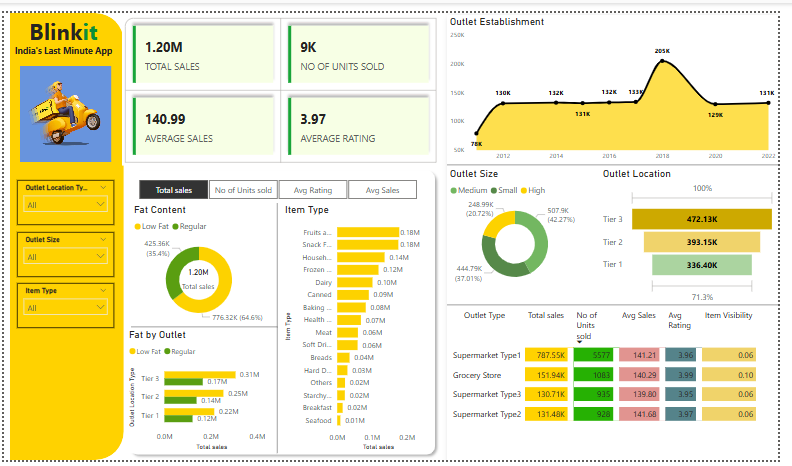

The dashboard page shown, as its layout file describes it:
{"tool":"powerbi","page":{"name":"Page 1","canvas":[1291,745],"ordinal":0},"visuals":[{"type":"shape","box":[9.5,0,189.6,745],"z":0},{"type":"textbox","box":[0,0,198.2,66.1],"z":1000},{"type":"textbox","box":[0,46.8,198.2,66.1],"z":2000},{"type":"cardVisual","fields":{"Data":["BlinkIT Grocery Data.Total sales","BlinkIT Grocery Data.No of Units sold","BlinkIT Grocery Data.Avg Sales","BlinkIT Grocery Data.Avg Rating"]},"box":[197.1,2.8,530.3,251.3],"z":3000},{"type":"shape","box":[199.7,253.3,527.5,491.7],"z":4000},{"type":"slicer","fields":{"Values":["Metrics.Metrics"]},"box":[199.7,271.2,512,45],"z":5000},{"type":"shape","box":[737.5,3,552.8,742],"z":6000},{"type":"donutChart","title":"Fat Content","fields":{"Y":["BlinkIT Grocery Data.Total sales"],"Category":["BlinkIT Grocery Data.Item Fat Content"]},"box":[211.6,315.9,226.5,208.6],"z":7000},{"type":"card","fields":{"Values":["BlinkIT Grocery Data.Total sales"]},"box":[262.2,382.9,123.7,116.2],"z":8000},{"type":"clusteredBarChart","title":"Fat by Outlet ","fields":{"Y":["BlinkIT Grocery Data.Total sales"],"Series":["BlinkIT Grocery Data.Item Fat Content"],"Category":["BlinkIT Grocery Data.Outlet Location Type"]},"box":[204.1,524.5,241.4,208.6],"z":9000},{"type":"barChart","title":"Item Type","fields":{"Y":["BlinkIT Grocery Data.Total sales"],"Category":["BlinkIT Grocery Data.Item Type"]},"box":[463.4,315.9,248.8,417.2],"z":10000},{"type":"lineChart","title":" Outlet Establishment ","fields":{"Category":["BlinkIT Grocery Data.Outlet Establishment Year"],"Y":["BlinkIT Grocery Data.Total sales"]},"box":[737.5,3,552.8,253.3],"z":11000},{"type":"shape","box":[737.5,102.8,552.8,299.5],"z":12000},{"type":"shape","box":[211.6,372.5,244.4,299.5],"z":13000},{"type":"shape","box":[333.8,315.9,244.4,417.2],"z":14000},{"type":"donutChart","title":"Outlet Size","fields":{"Y":["BlinkIT Grocery Data.Total sales"],"Category":["BlinkIT Grocery Data.Outlet Size"]},"box":[737.5,256.3,226.5,208.6],"z":15000},{"type":"funnel","title":" Outlet Location","fields":{"Y":["Sum(BlinkIT Grocery Data.Sales)"],"Category":["BlinkIT Grocery Data.Outlet Location Type"]},"box":[993.8,256.3,296.5,230.9],"z":16000},{"type":"pivotTable","fields":{"Rows":["BlinkIT Grocery Data.Outlet Type"],"Values":["BlinkIT Grocery Data.Total sales","BlinkIT Grocery Data.No of Units sold","BlinkIT Grocery Data.Avg Sales","BlinkIT Grocery Data.Avg Rating","Avg(BlinkIT Grocery Data.Item Visibility)"]},"box":[737.5,487.2,552.8,257.8],"z":17000},{"type":"shape","box":[737.5,336.7,552.8,299.5],"z":18000},{"type":"slicer","fields":{"Values":["BlinkIT Grocery Data.Outlet Location Type"]},"box":[22.3,278.6,162.4,74.5],"z":19000},{"type":"slicer","fields":{"Values":["BlinkIT Grocery Data.Outlet Size"]},"box":[22.3,365.1,162.4,74.5],"z":20000},{"type":"slicer","fields":{"Values":["BlinkIT Grocery Data.Item Type"]},"box":[22.3,450,162.4,74.5],"z":21000},{"type":"image","box":[22.3,83.4,162.4,169.9],"z":22000}]}

Visuals, with their boxes in screenshot pixels (x1, y1, x2, y2), scaled from the page's 1291x745 canvas onto the 792x466 screenshot:
shape: bbox(6, 0, 122, 465)
textbox: bbox(0, 0, 122, 41)
textbox: bbox(0, 29, 122, 71)
cardVisual - BlinkIT Grocery Data.Total sales x BlinkIT Grocery Data.No of Units sold: bbox(121, 2, 446, 159)
shape: bbox(123, 158, 446, 465)
slicer - Metrics.Metrics: bbox(123, 170, 437, 198)
shape: bbox(452, 2, 791, 465)
"Fat Content" donutChart: bbox(130, 198, 269, 328)
card - BlinkIT Grocery Data.Total sales: bbox(161, 240, 237, 312)
"Fat by Outlet " clusteredBarChart: bbox(125, 328, 273, 459)
"Item Type" barChart: bbox(284, 198, 437, 459)
" Outlet Establishment " lineChart: bbox(452, 2, 791, 160)
shape: bbox(452, 64, 791, 252)
shape: bbox(130, 233, 280, 420)
shape: bbox(205, 198, 355, 459)
"Outlet Size" donutChart: bbox(452, 160, 591, 291)
" Outlet Location" funnel: bbox(610, 160, 791, 305)
pivotTable - BlinkIT Grocery Data.Outlet Type x BlinkIT Grocery Data.Total sales: bbox(452, 305, 791, 465)
shape: bbox(452, 211, 791, 398)
slicer - BlinkIT Grocery Data.Outlet Location Type: bbox(14, 174, 113, 221)
slicer - BlinkIT Grocery Data.Outlet Size: bbox(14, 228, 113, 275)
slicer - BlinkIT Grocery Data.Item Type: bbox(14, 281, 113, 328)
image: bbox(14, 52, 113, 158)
